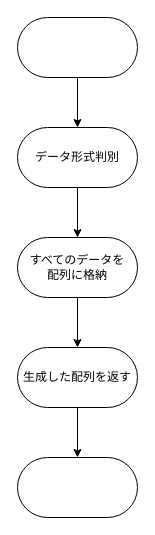
This 155x535 diagram has some shape labels left out. Each missing label, with the centre of its shape:
"データの受け取り (終了)" belongs at point (77, 487).
"データの受け取り (開始)" belongs at point (77, 47).
